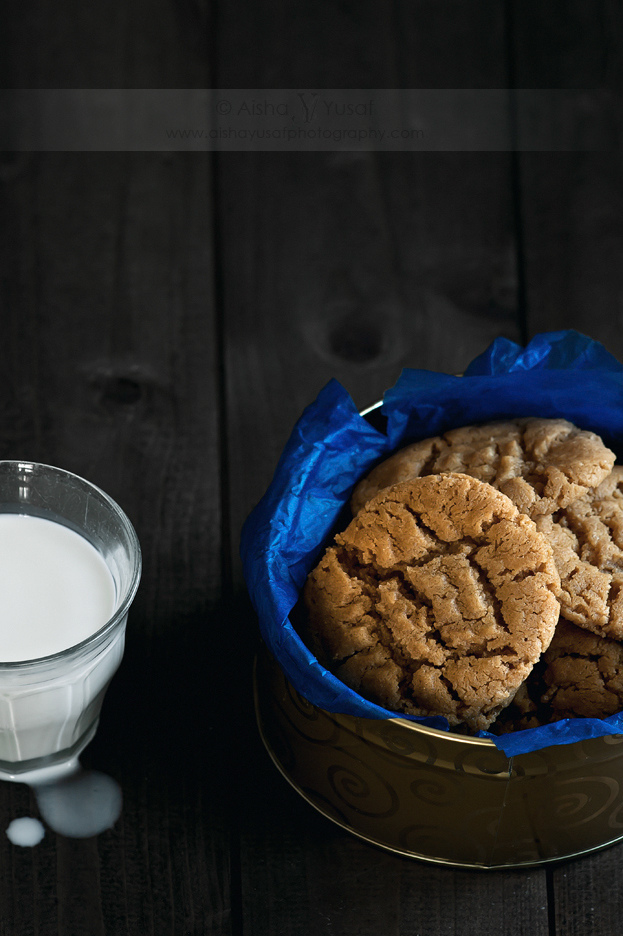glass of milk: (1, 448, 158, 790)
